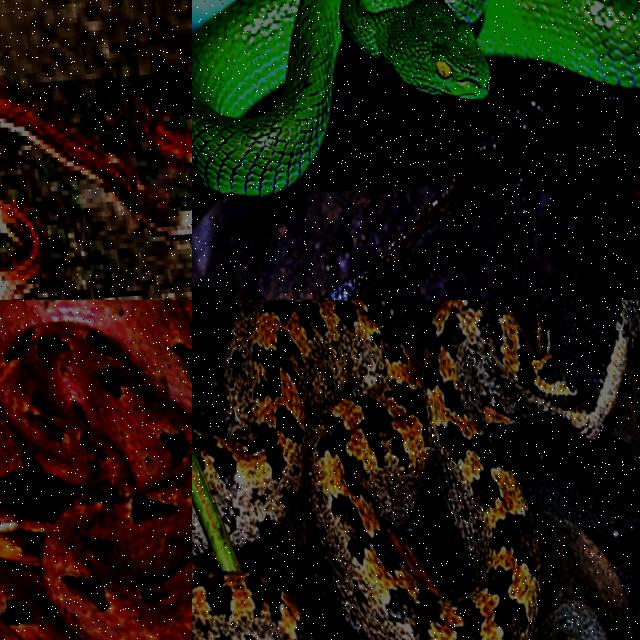Calliophis intestinalis: (0, 95, 191, 235)
Calloselasma rhodostoma: (0, 300, 191, 639)
Ovophis monticola: (193, 300, 639, 639)
Trimeresurus macrops: (192, 0, 639, 196)
